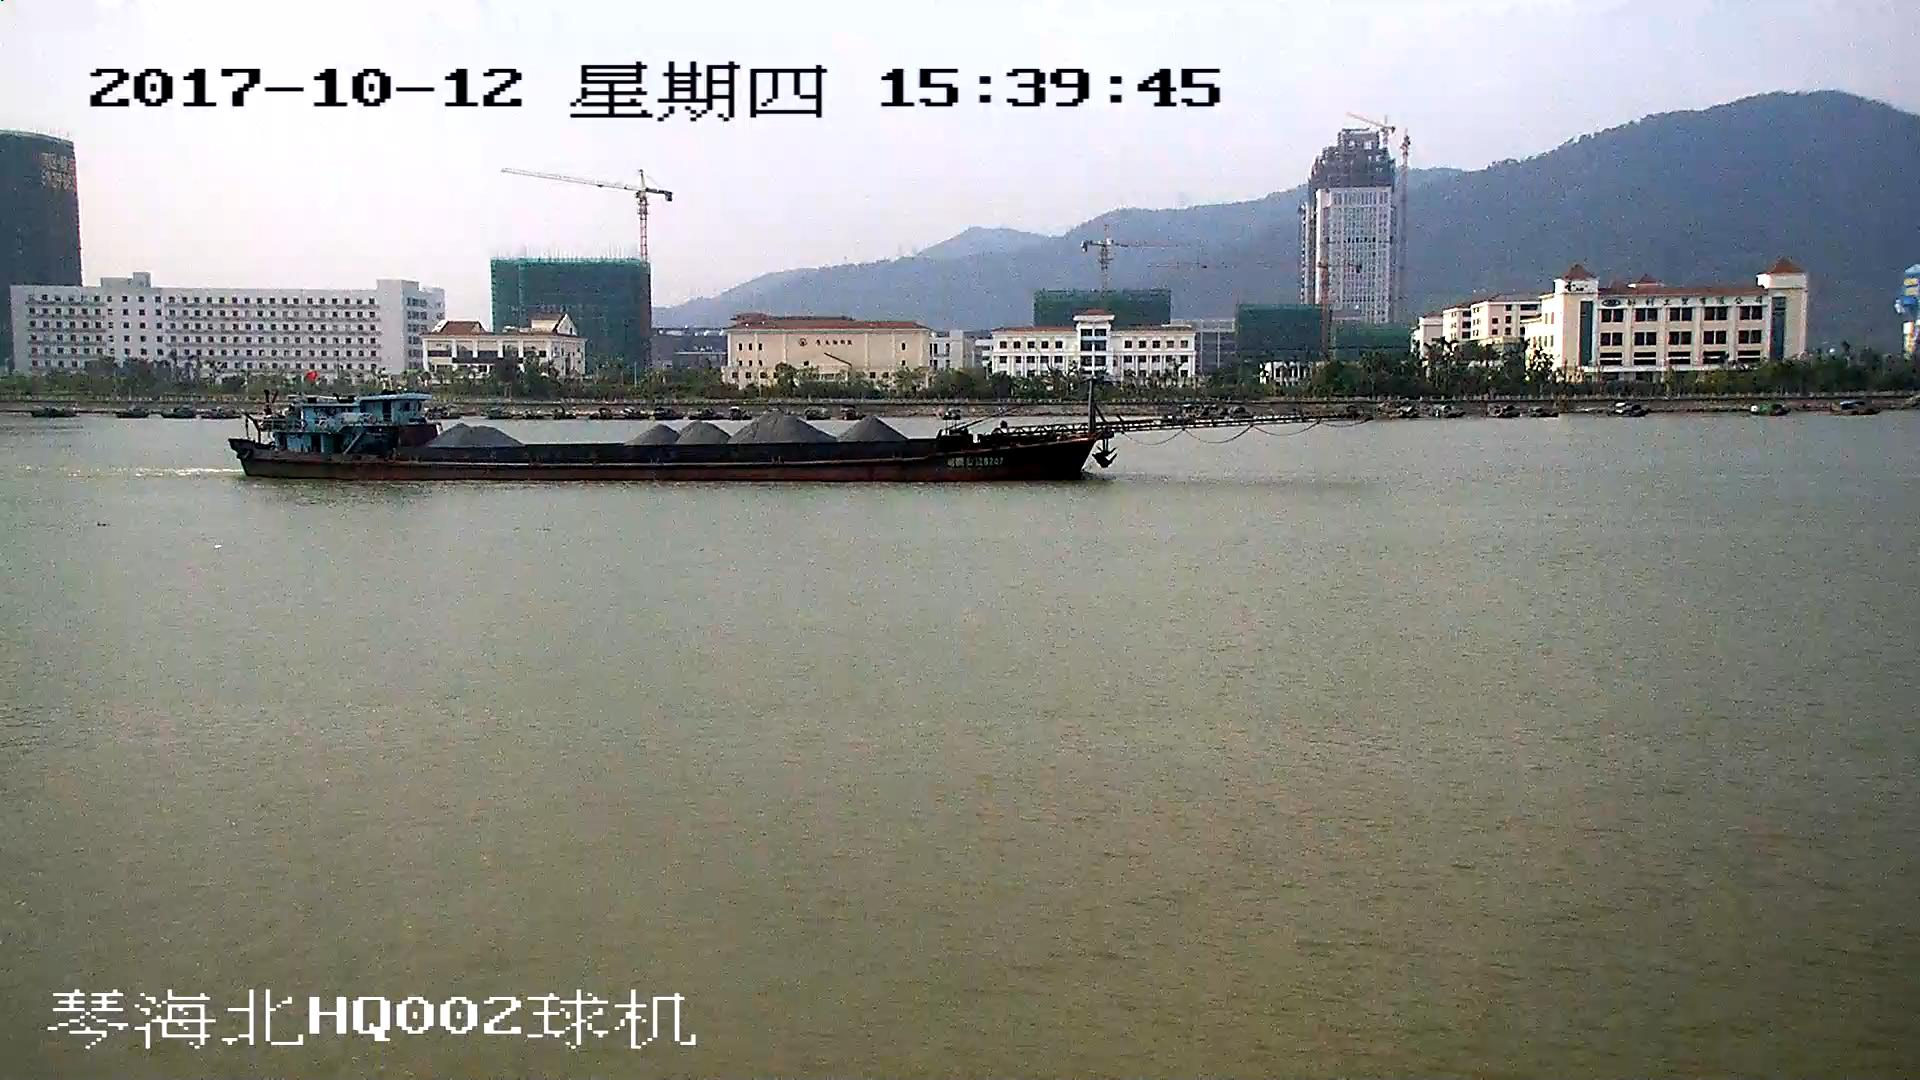ore carrier: (235, 382, 1308, 485)
